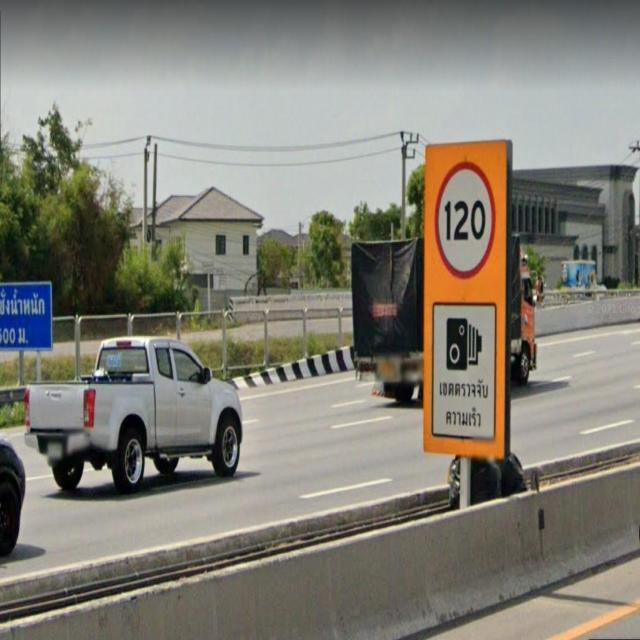car: (25, 338, 242, 492)
road-signs: (424, 140, 511, 459)
